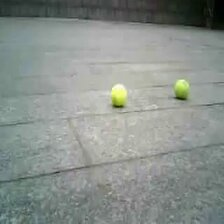tennis: (111, 84, 129, 105), (175, 79, 190, 98)
